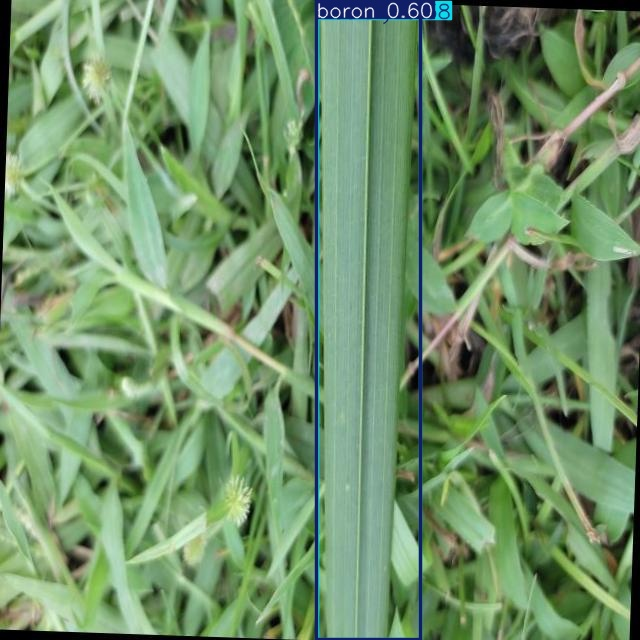Healthy: (318, 1, 421, 639)
nitrogen: (317, 0, 420, 640)
